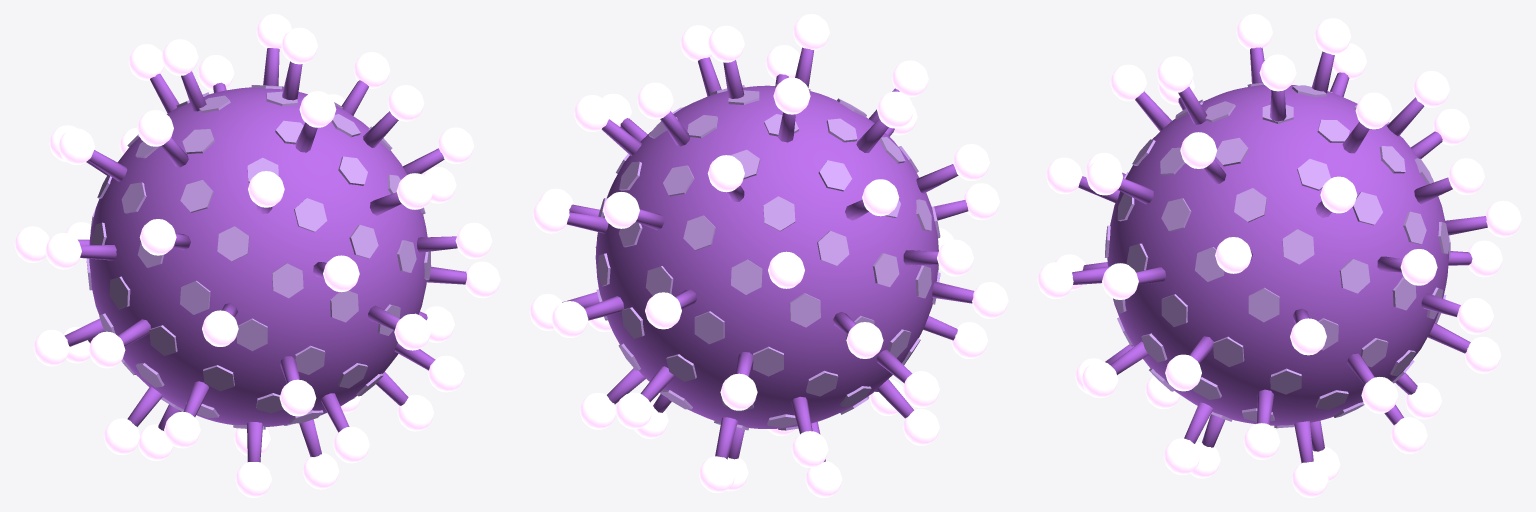
File: E17_Giant_Virus.glb
3 renders of one model, left to right at view 1: azimuth 30°, elevation 25°; view 2: azimuth 150°, elevation 25°; view 3: azimuth 270°, elevation 25°, orthographic.
Visible parts, largest first — view 1: E17_Giant_Virus_Mesh; view 2: E17_Giant_Virus_Mesh; view 3: E17_Giant_Virus_Mesh.
Boxes of the visible parts, x1,y1,x2,y2 form: E17_Giant_Virus_Mesh: (14, 14, 500, 497); E17_Giant_Virus_Mesh: (529, 14, 1008, 497); E17_Giant_Virus_Mesh: (1037, 14, 1521, 497).
Size of the model in its own units: 6.79 by 6.78 by 6.8.
